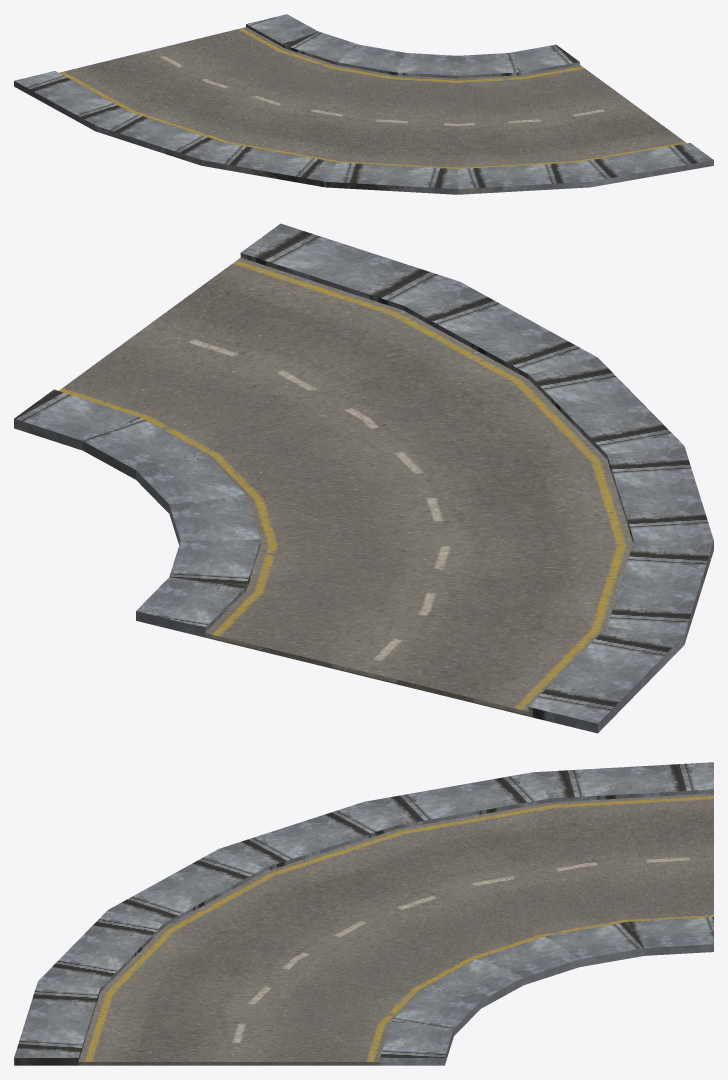
Rendered from Urban_Road1LongCorner_Model.fbx.
3 views of the same model, one above another, from view 1: azimuth 30°, elevation 25°; view 2: azimuth 150°, elevation 25°; view 3: azimuth 270°, elevation 25° (orthographic). The views are drawn at different scales.
Visible parts, largest first — view 1: Urban_Road1LongCorner_Mesh; view 2: Urban_Road1LongCorner_Mesh; view 3: Urban_Road1LongCorner_Mesh.
Boxes of the visible parts, left/top/right/bottom form: Urban_Road1LongCorner_Mesh: left=14, top=14, right=713, bottom=194; Urban_Road1LongCorner_Mesh: left=14, top=223, right=713, bottom=733; Urban_Road1LongCorner_Mesh: left=14, top=762, right=713, bottom=1065.
Size of the model in its own units: 26 by 0.32 by 26.
